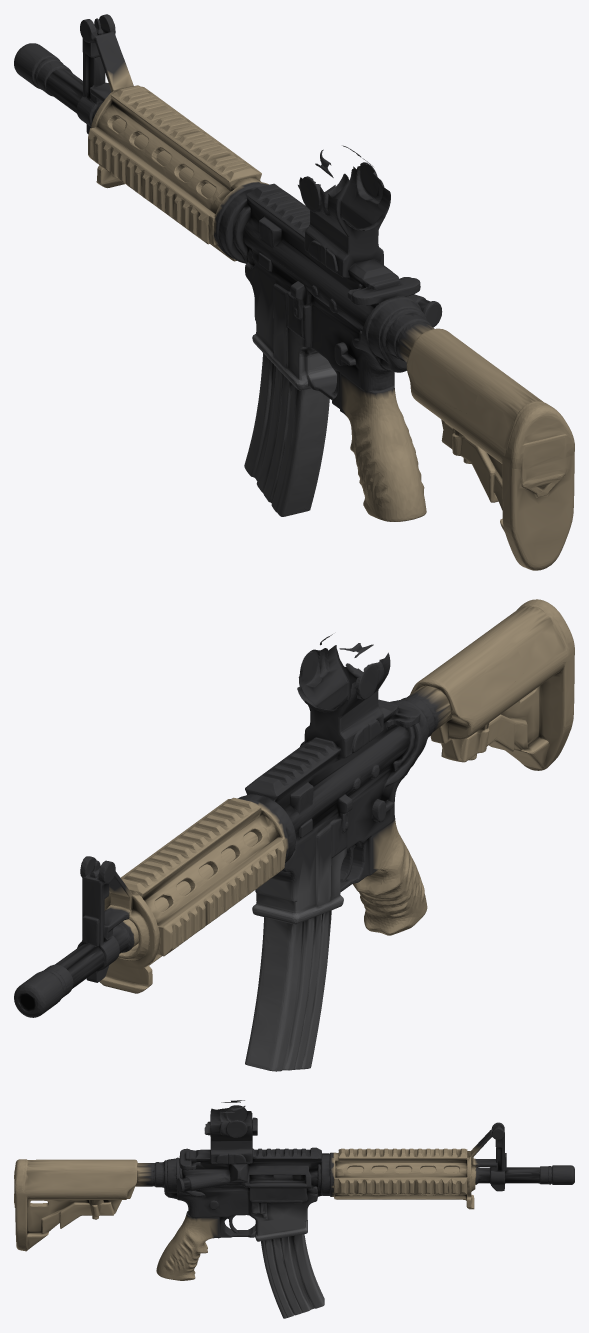
The picture shows the model from 3 angles, top to bottom: view 1: azimuth 30°, elevation 25°; view 2: azimuth 150°, elevation 25°; view 3: azimuth 270°, elevation 25°; orthographic projection. The views are drawn at different scales.
Visible parts, largest first — view 1: Mesh_0; view 2: Mesh_0; view 3: Mesh_0.
Boxes of the visible parts, <box> form: Mesh_0: <box>14,14,574,570</box>; Mesh_0: <box>14,599,574,1071</box>; Mesh_0: <box>14,1100,574,1318</box>.
Size of the model in its own units: 0.088 by 0.3504 by 0.8398.
